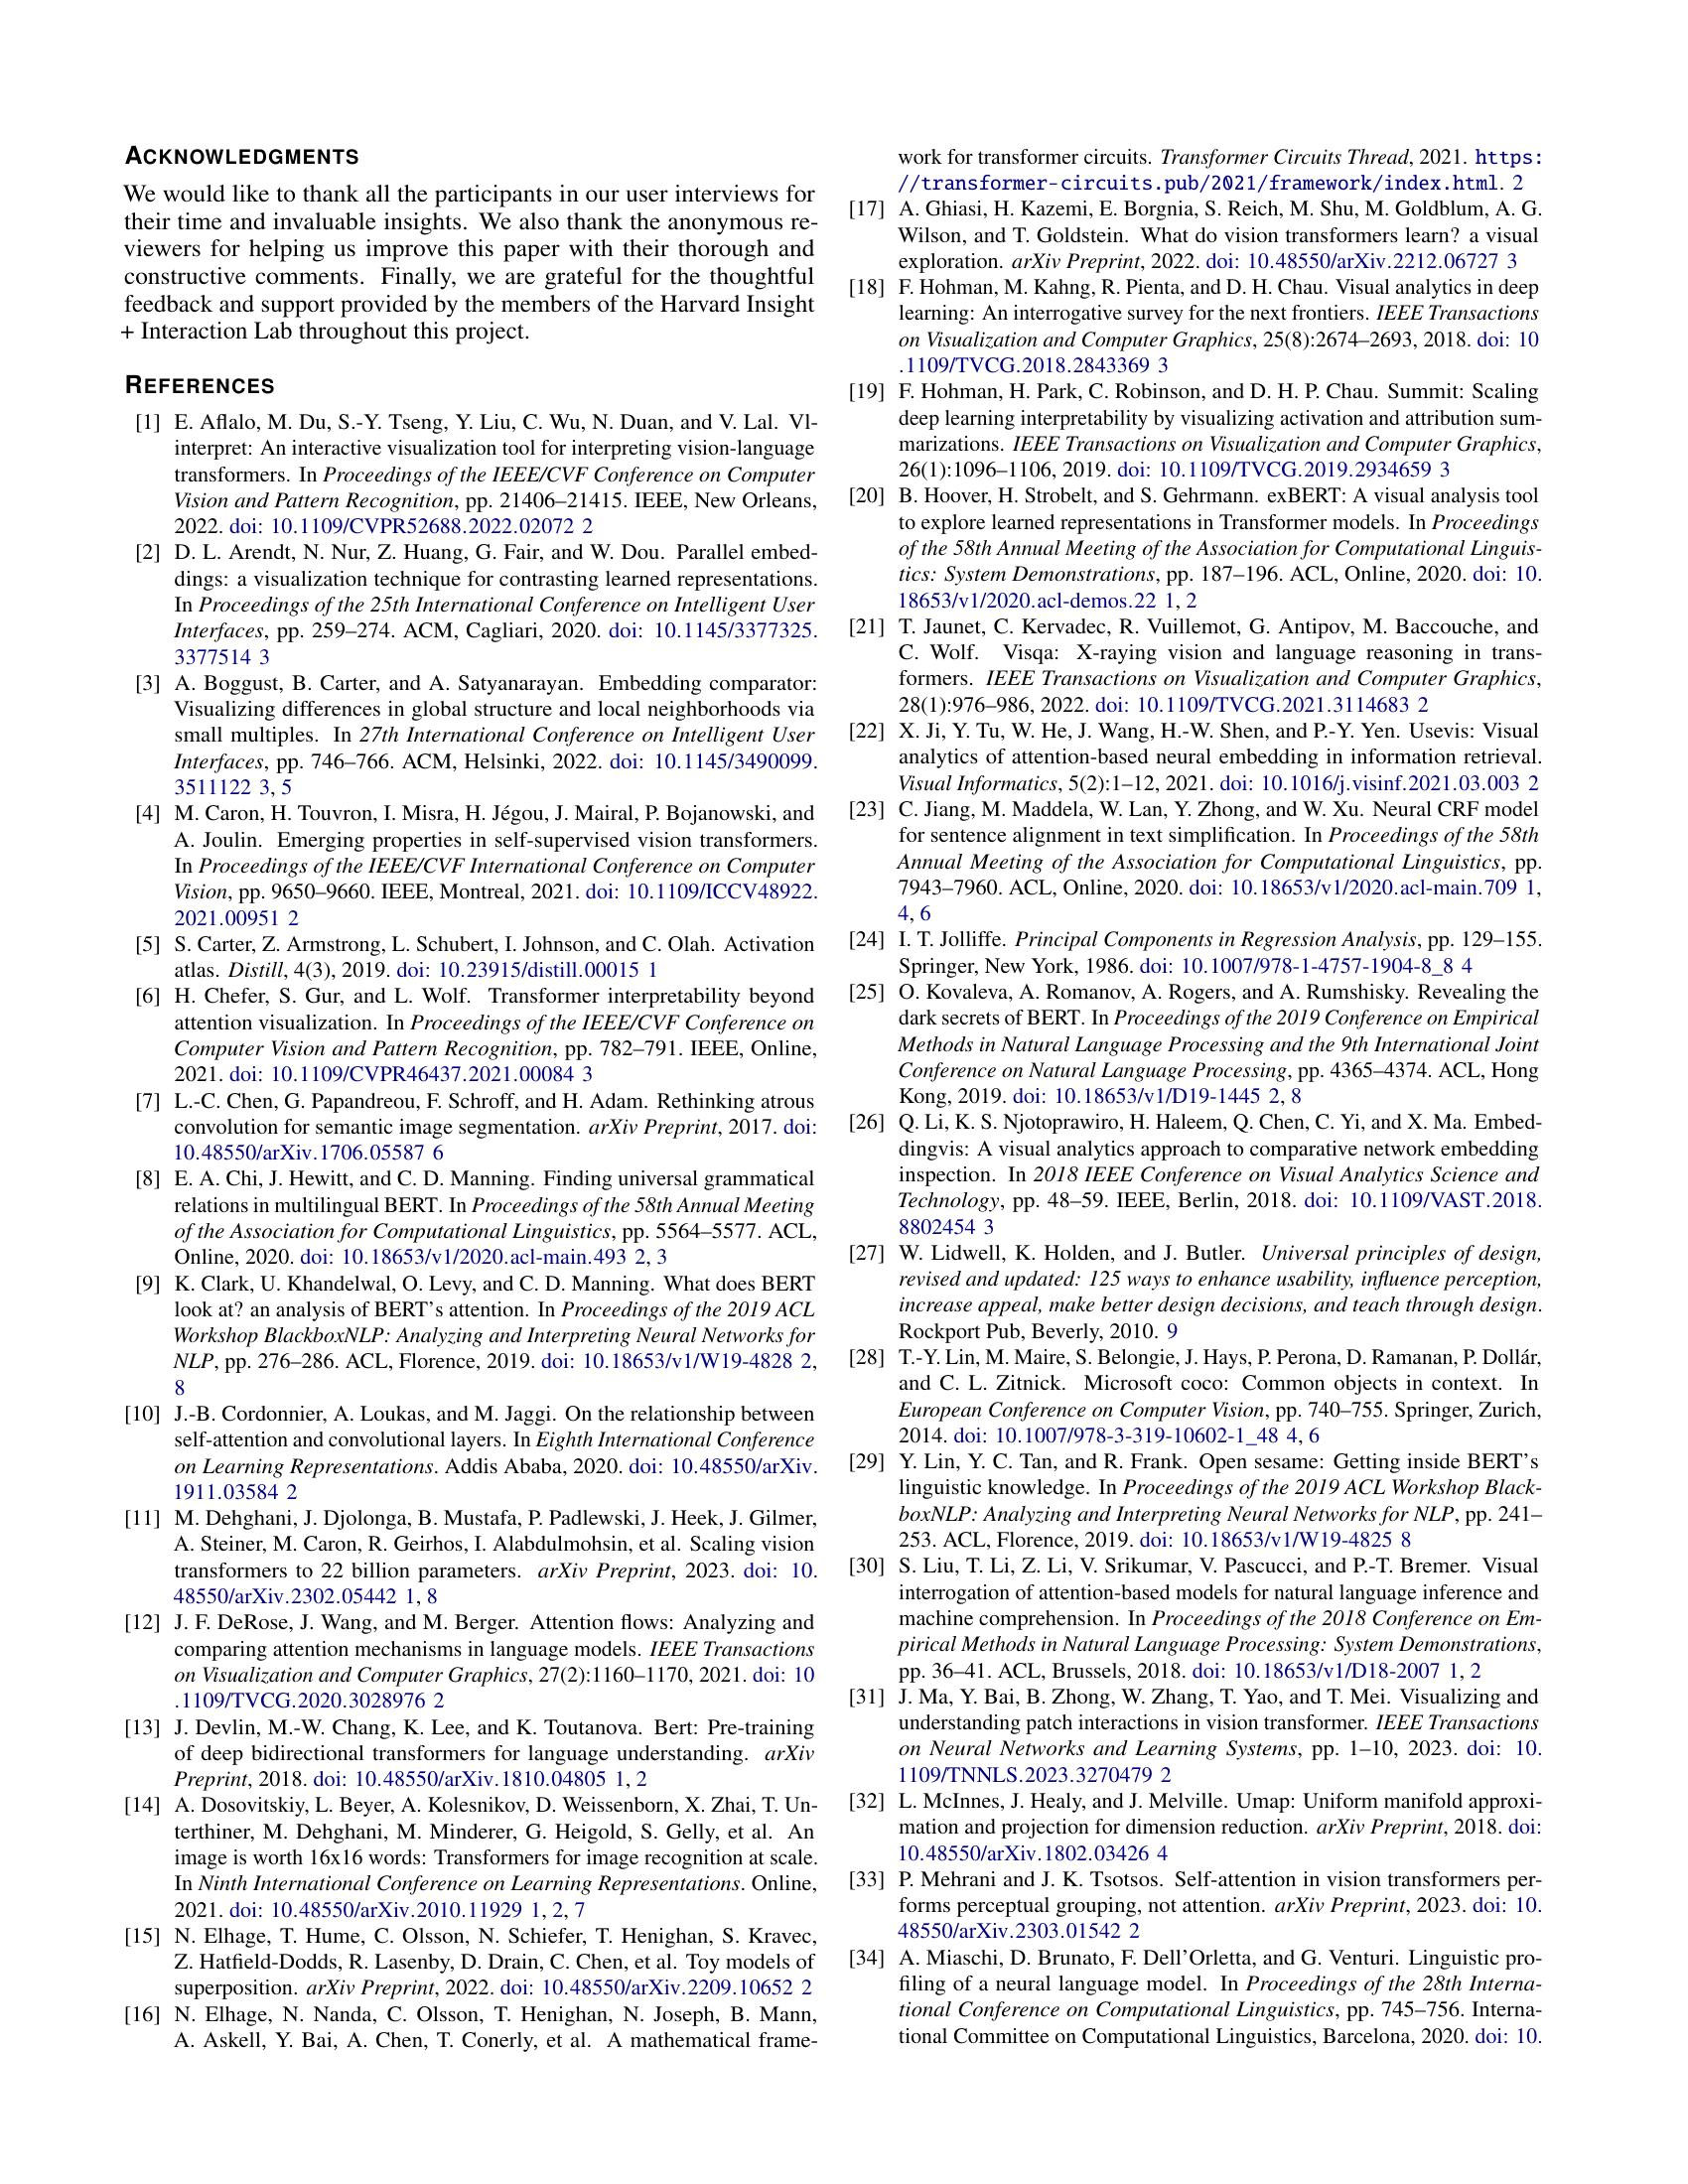text: (842, 138, 1550, 1237), (115, 365, 824, 1381), (842, 1239, 1550, 2055), (115, 1399, 824, 2058), (115, 135, 824, 349)
